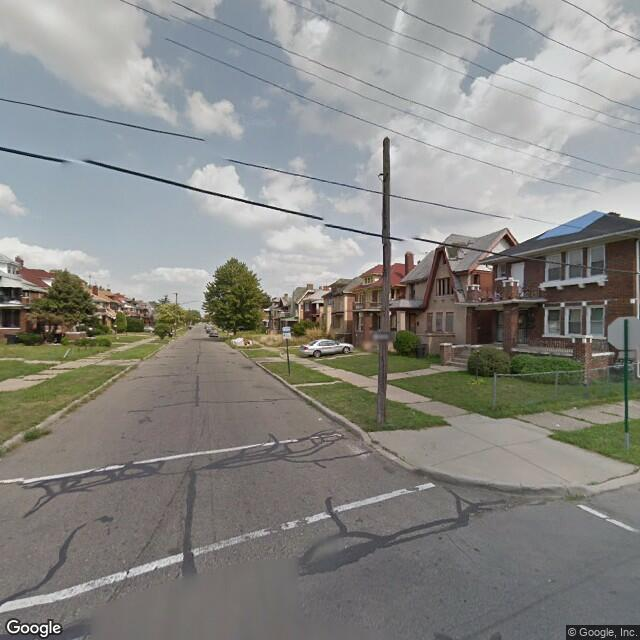litter: (570, 402, 578, 411), (552, 423, 563, 429), (313, 417, 324, 423)
